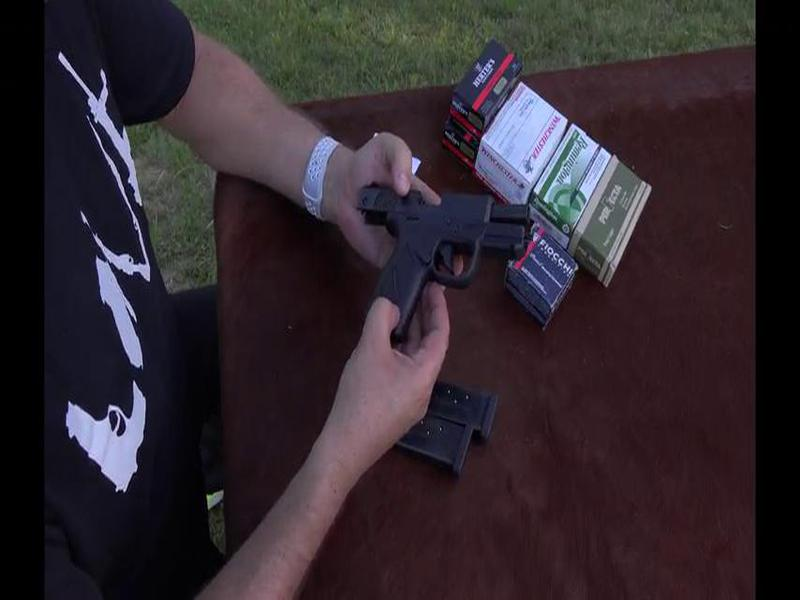Pistola: (349, 176, 565, 348)
